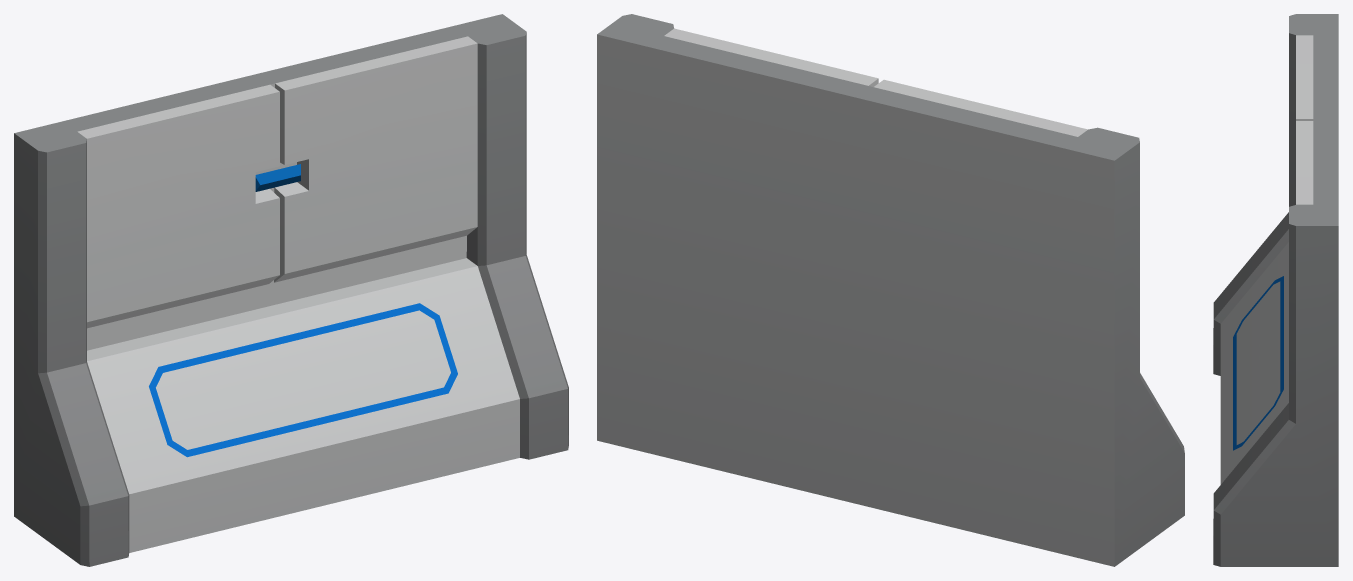
Rendered from Wall_type_A_031.fbx.
3 renders of one model, left to right at view 1: azimuth 30°, elevation 25°; view 2: azimuth 150°, elevation 25°; view 3: azimuth 270°, elevation 25°, orthographic. The views are drawn at different scales.
Parts seen in each view (by area): view 1: Wall_type_A_031; view 2: Wall_type_A_031; view 3: Wall_type_A_031.
Part boxes in pixels (left/top/right/bottom): Wall_type_A_031: left=14, top=14, right=568, bottom=566; Wall_type_A_031: left=597, top=14, right=1184, bottom=566; Wall_type_A_031: left=1213, top=14, right=1338, bottom=566.
Size of the model in its own units: 200 by 50 by 150.
